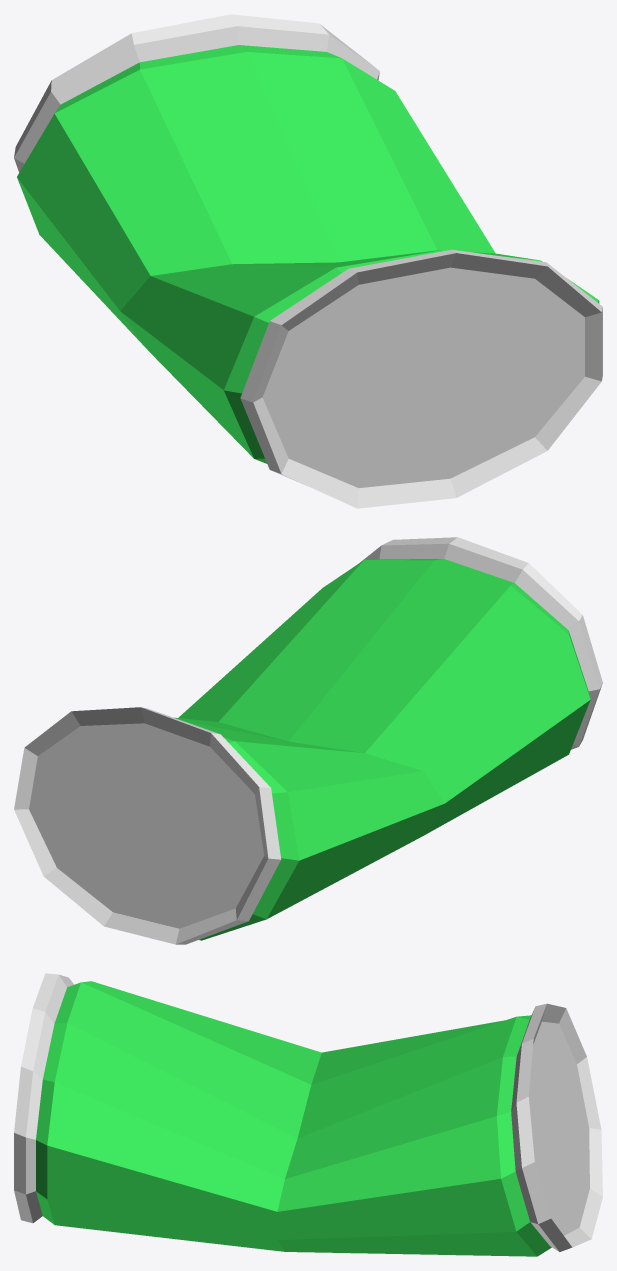
Rendered from Kola 3.fbx.
The picture shows the model from 3 angles, top to bottom: view 1: azimuth 30°, elevation 25°; view 2: azimuth 150°, elevation 25°; view 3: azimuth 270°, elevation 25°; orthographic projection. The views are drawn at different scales.
Parts seen in each view (by area): view 1: Cylinder.001; view 2: Cylinder.001; view 3: Cylinder.001.
Boxes of the visible parts, x1,y1,x2,y2 form: Cylinder.001: (14,14,602,508); Cylinder.001: (14,537,602,944); Cylinder.001: (14,973,602,1256).
Bounding box in the file's own units: 66.57 × 38.05 × 97.69.
